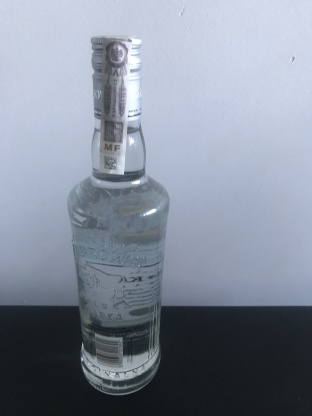nakretka: (88, 31, 145, 123)
